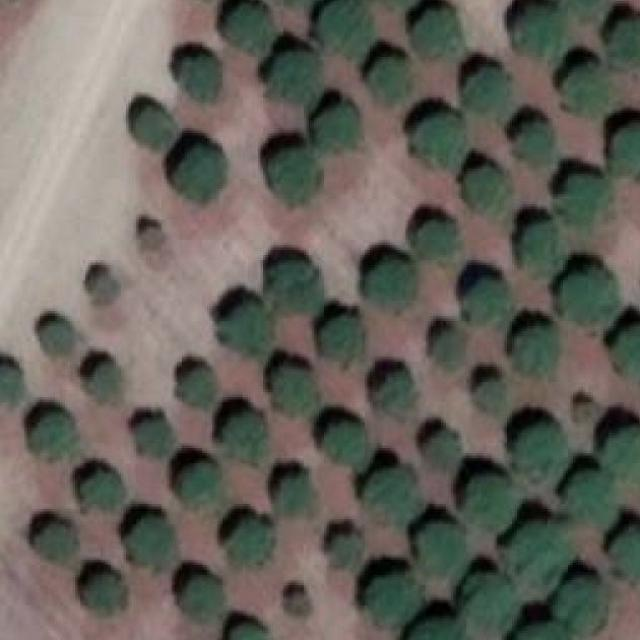Tree: (461, 570, 515, 640), (362, 465, 423, 524), (512, 519, 571, 580), (562, 174, 618, 238), (406, 6, 466, 65), (554, 59, 614, 118), (268, 143, 324, 202), (414, 112, 469, 172), (510, 4, 564, 65), (362, 570, 423, 624), (461, 468, 515, 528), (319, 0, 375, 57), (562, 262, 616, 321), (556, 575, 606, 636), (512, 321, 568, 375), (461, 67, 515, 121), (268, 50, 319, 106), (176, 148, 228, 202), (226, 0, 276, 55), (418, 522, 467, 578), (369, 258, 418, 312), (512, 421, 563, 472), (220, 303, 272, 352), (463, 163, 512, 214), (270, 260, 319, 311), (131, 514, 180, 565), (317, 100, 363, 154), (228, 516, 278, 565), (319, 316, 368, 365), (321, 418, 370, 467), (466, 275, 515, 324), (271, 362, 317, 412), (180, 50, 225, 100), (512, 118, 558, 166), (131, 102, 175, 152), (177, 461, 220, 512), (365, 54, 410, 102), (375, 368, 418, 418), (522, 224, 561, 276), (600, 426, 640, 476), (228, 411, 266, 462), (33, 411, 78, 454), (608, 13, 640, 72), (80, 471, 126, 512), (83, 568, 124, 613), (568, 477, 613, 517), (180, 575, 220, 619), (136, 416, 175, 461), (40, 524, 78, 570), (610, 118, 640, 174), (613, 323, 640, 382), (419, 219, 459, 258), (610, 527, 640, 578), (429, 428, 462, 473), (275, 473, 314, 509), (180, 367, 215, 407), (90, 362, 124, 402), (439, 321, 472, 362), (480, 377, 513, 417), (329, 529, 360, 568), (40, 321, 73, 357), (90, 273, 121, 307), (407, 622, 465, 640), (557, 0, 603, 21), (0, 363, 24, 402), (227, 620, 273, 640), (517, 626, 571, 640), (288, 590, 312, 616), (141, 228, 165, 253)
